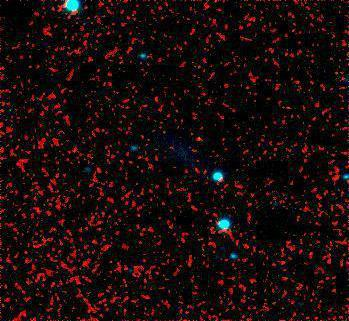star: (182, 128, 212, 158)
